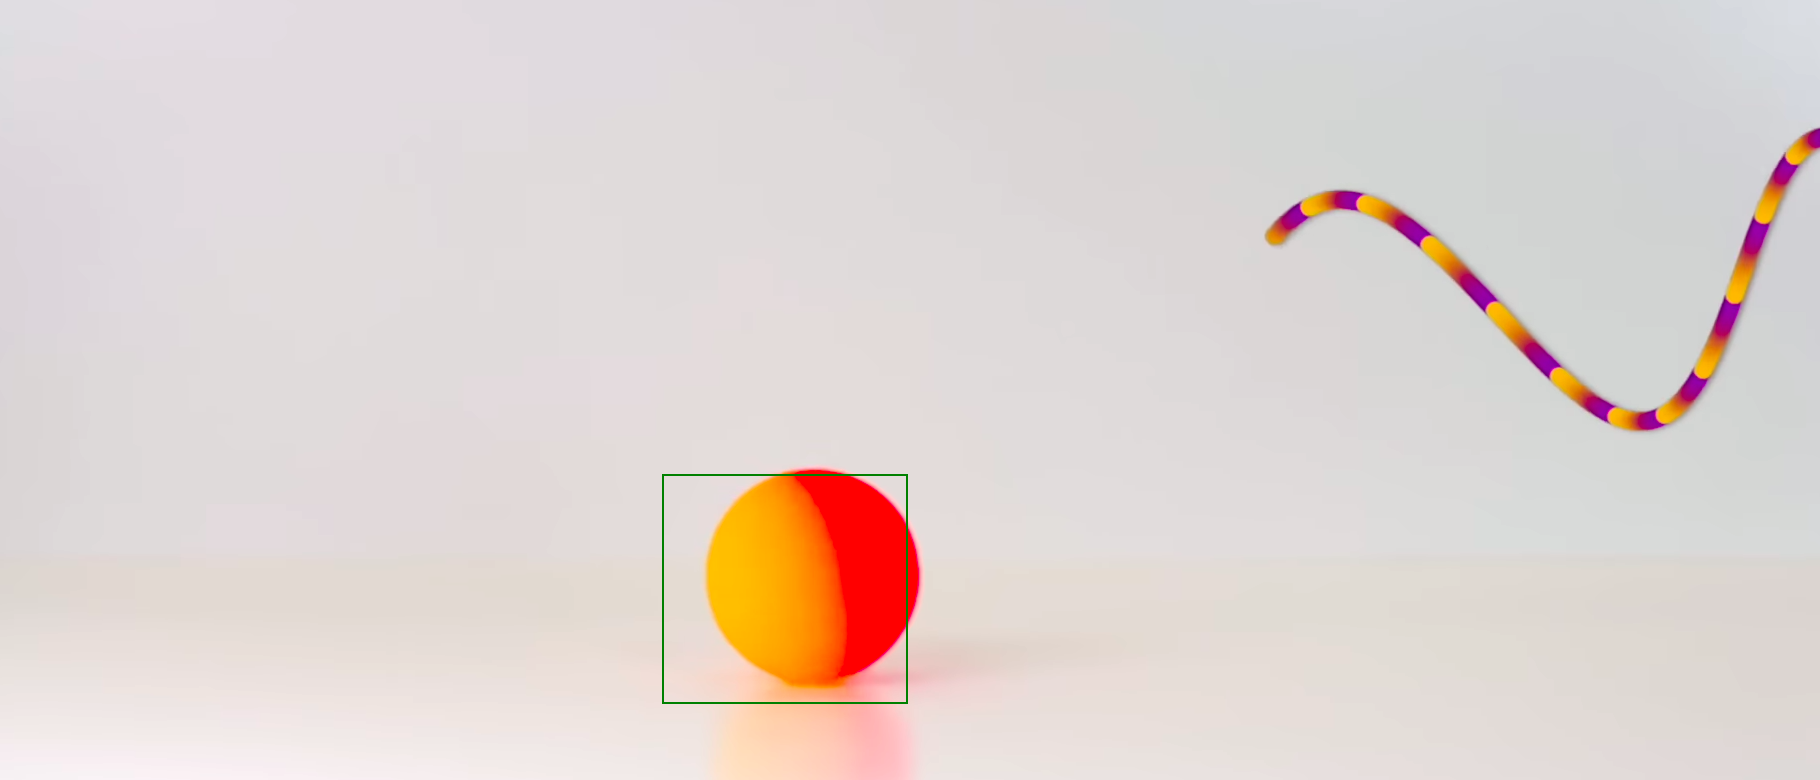Circle: (705, 467, 923, 689)
